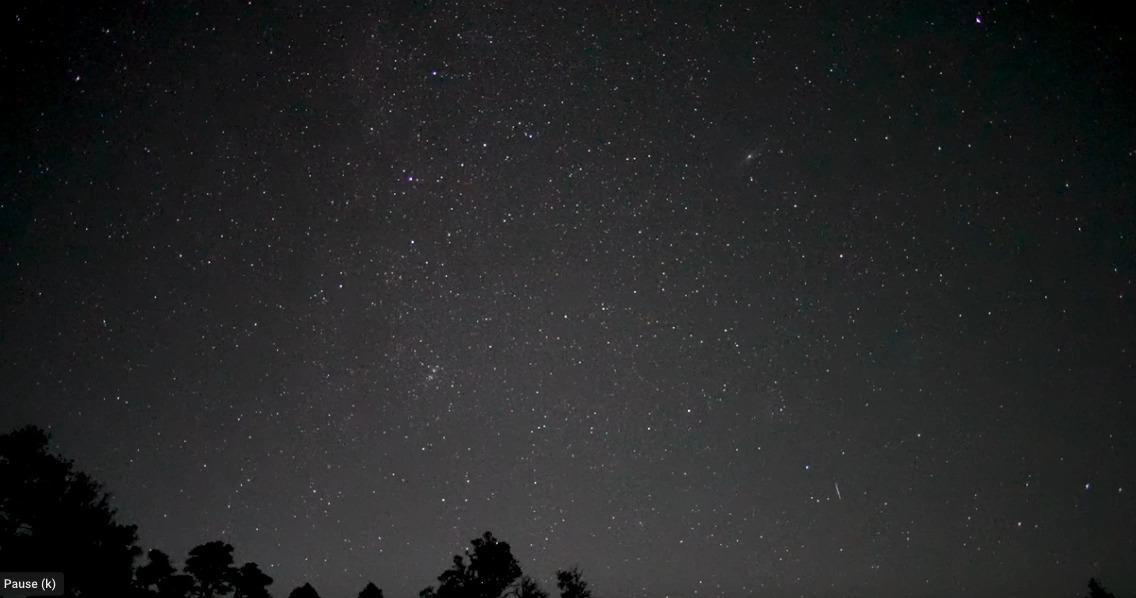meteorite: (817, 476, 857, 502)
